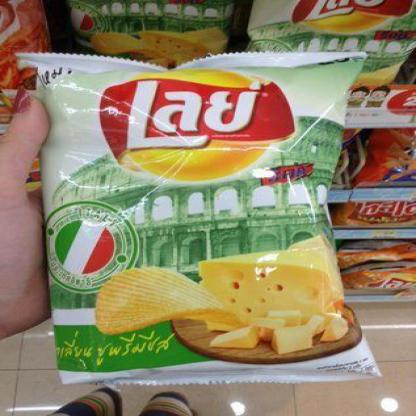potatochip: (9, 43, 391, 392), (43, 0, 246, 137), (242, 0, 415, 122)
